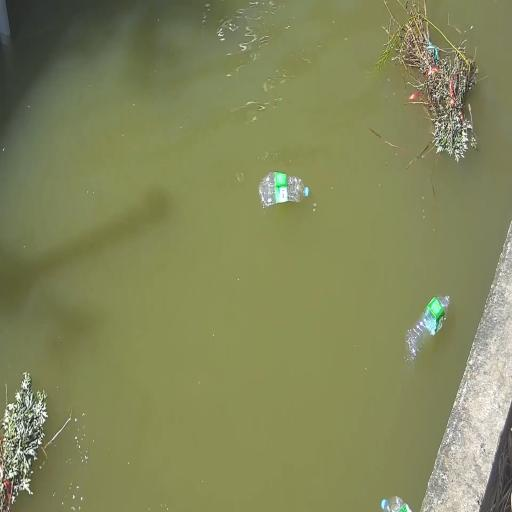plastic: (406, 296, 449, 360), (259, 173, 309, 208), (381, 496, 411, 511), (304, 187, 309, 197)
twig: (0, 372, 71, 512), (409, 45, 478, 161), (376, 9, 431, 69)
